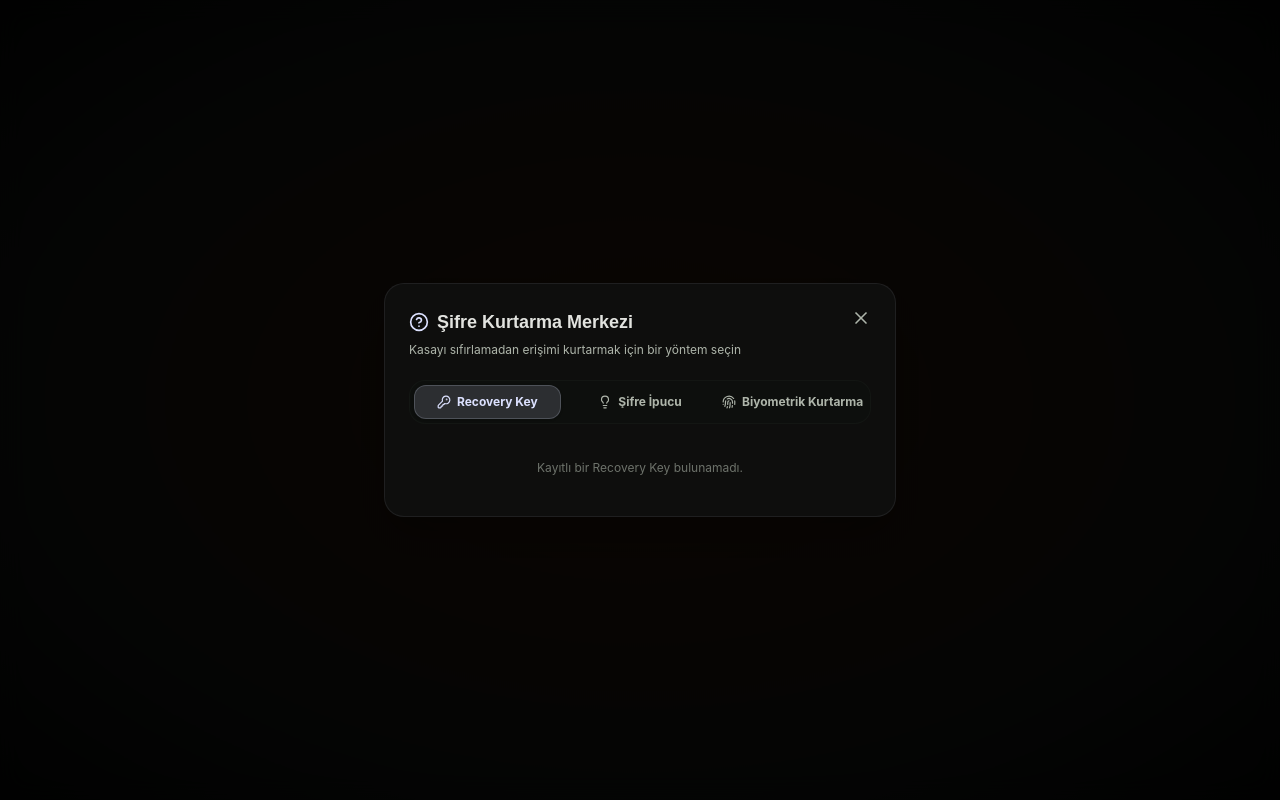
LockScreenRecoveryModal › shows the biometric-disabled fallback on the biometric tab
Click the button with test id "lock-recovery-tab-biometric" at [793, 402], box [719,385,866,419]
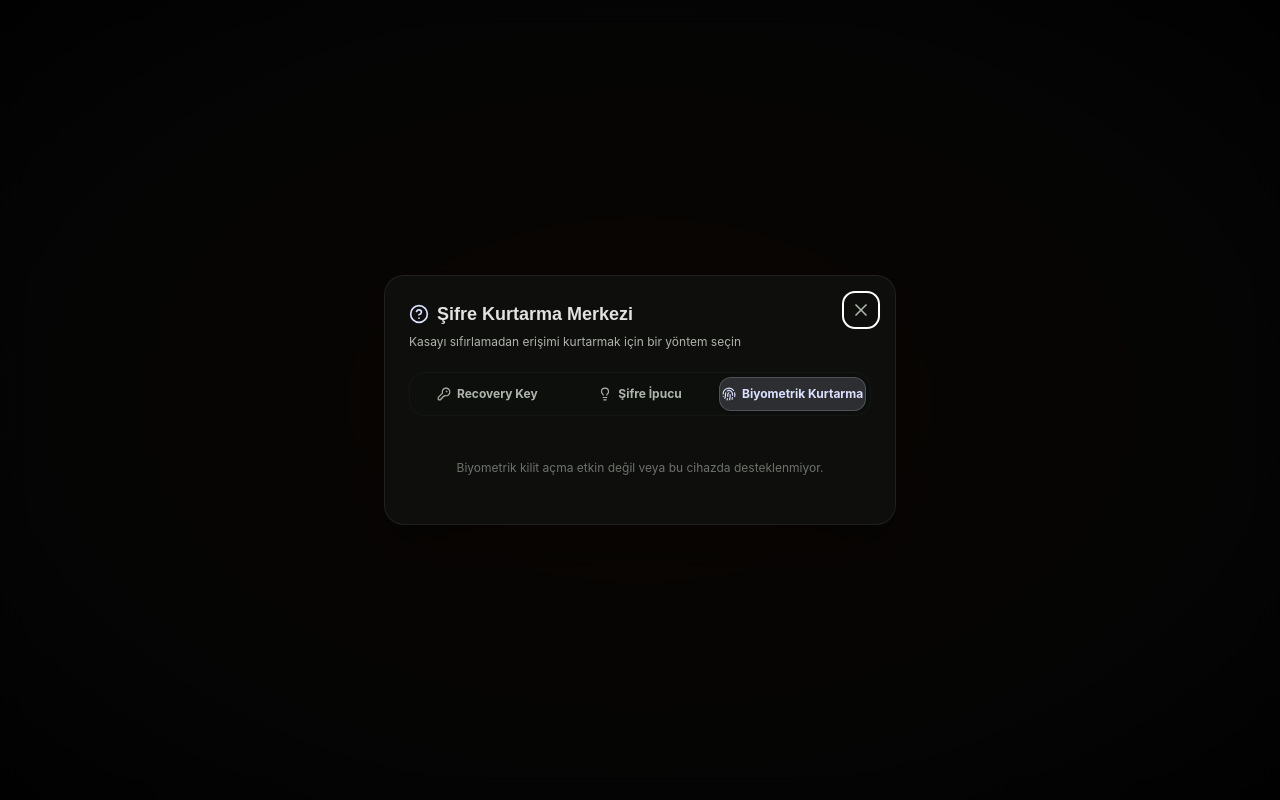
Expected: the text "Biyometrik kilit açma etkin değil veya bu cihazda desteklenmiyor." is shown, [457,460,823,475]
